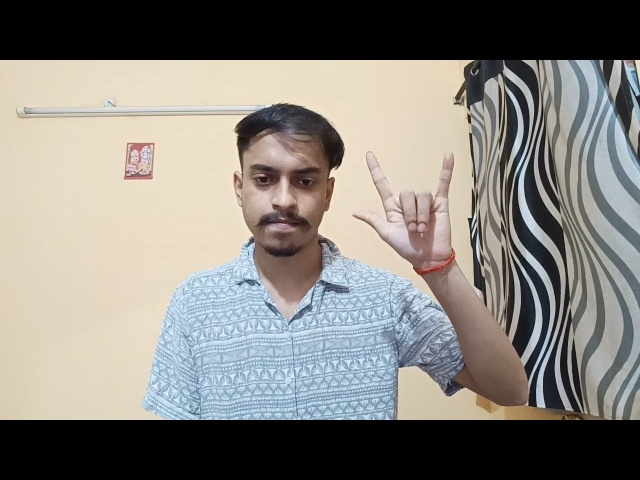ILoveyou: (351, 140, 466, 265)
